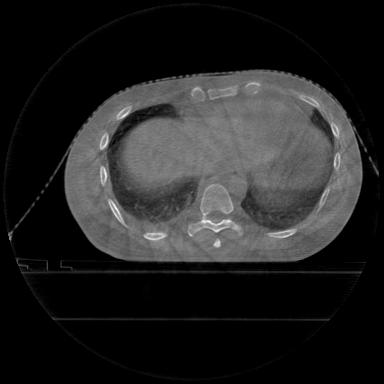body: (65, 70, 362, 261)
cord: (188, 184, 243, 237)
paru kanan: (109, 108, 188, 222)
paru kiri: (242, 114, 338, 227)
